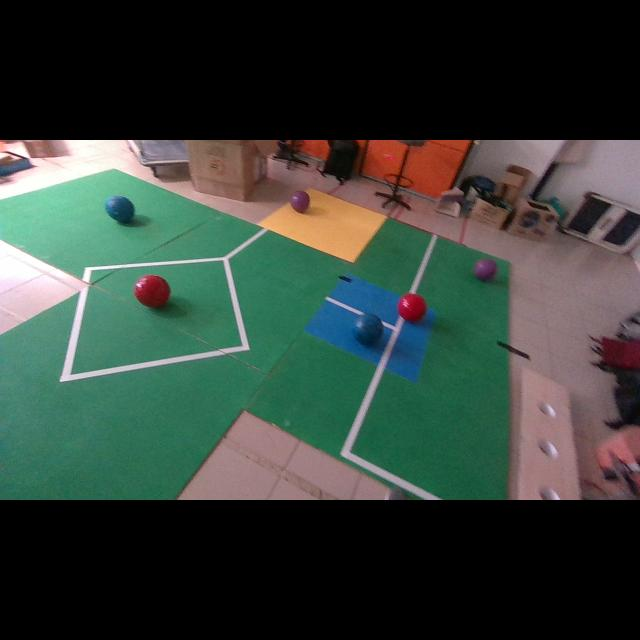B: (352, 314, 384, 344), (105, 195, 135, 223)
P: (474, 259, 498, 281), (290, 190, 310, 212)
R: (134, 275, 170, 307), (398, 294, 426, 321)
